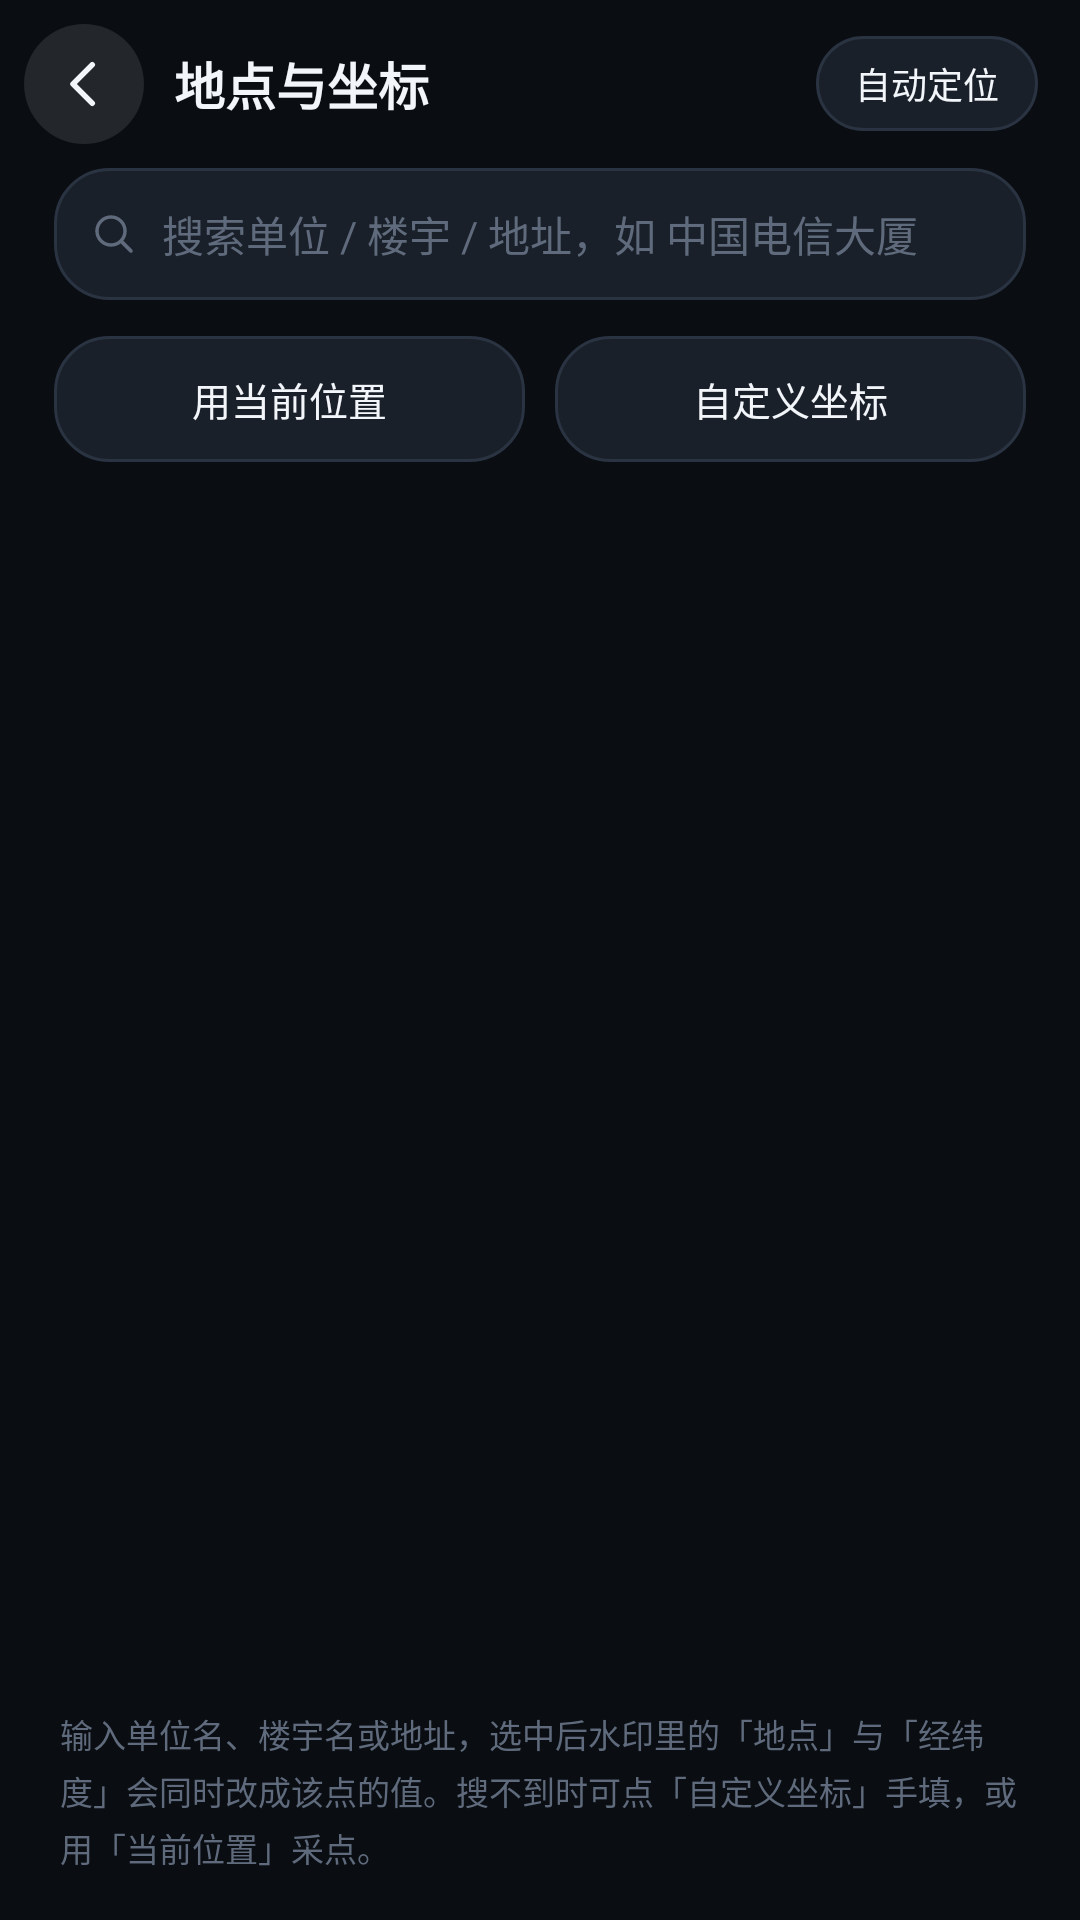

Icons on this 1080 × 1920 Android screen, each with the point to tap as point (x, y):
back: point (84, 84)
